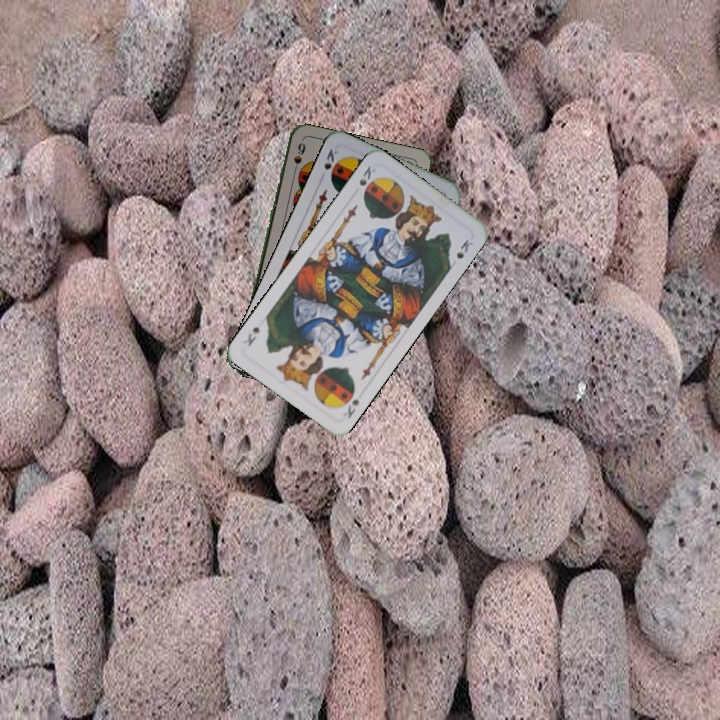S9: (289, 139, 306, 178)
SK: (355, 162, 379, 188), (339, 394, 362, 421), (320, 144, 340, 172)
